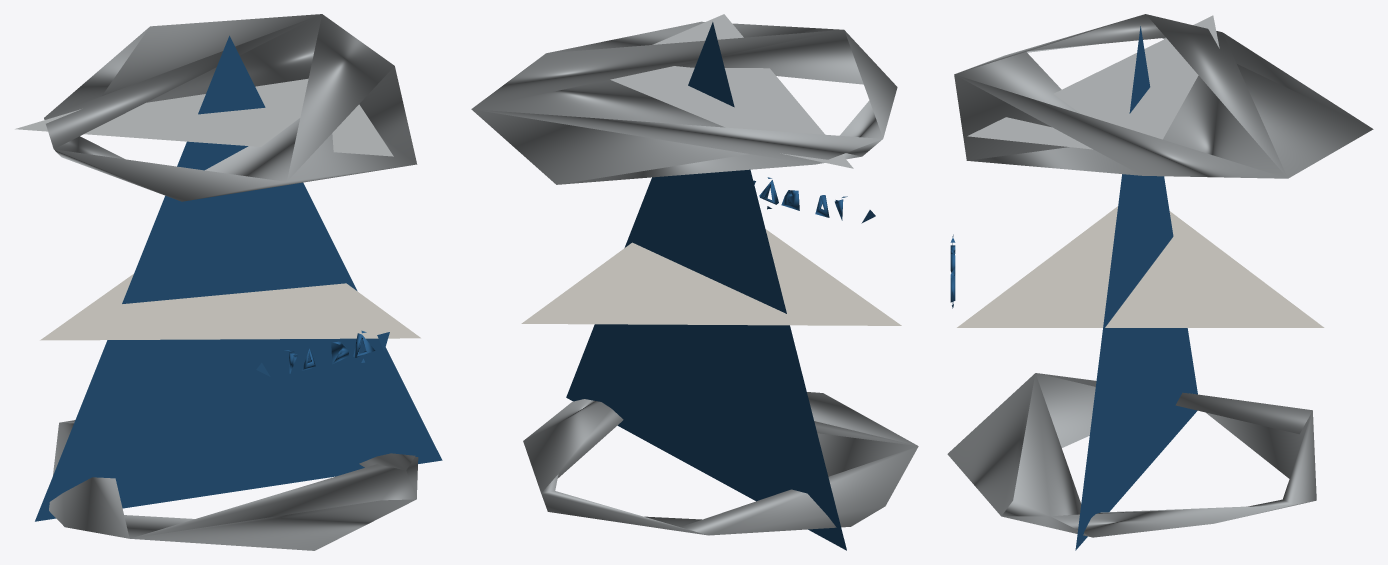
File: lon_5_sua.glb
3 views of the same model, side by side, from view 1: azimuth 30°, elevation 25°; view 2: azimuth 150°, elevation 25°; view 3: azimuth 270°, elevation 25° (orthographic).
Parts seen in each view (by area): view 1: lon_5_sua; view 2: lon_5_sua; view 3: lon_5_sua.
Part boxes in pixels (bbox=[...]): lon_5_sua: bbox=[15, 14, 442, 550]; lon_5_sua: bbox=[471, 14, 918, 550]; lon_5_sua: bbox=[947, 14, 1373, 550].
Size of the model in its own units: 0.1753 by 0.2121 by 0.1773.
